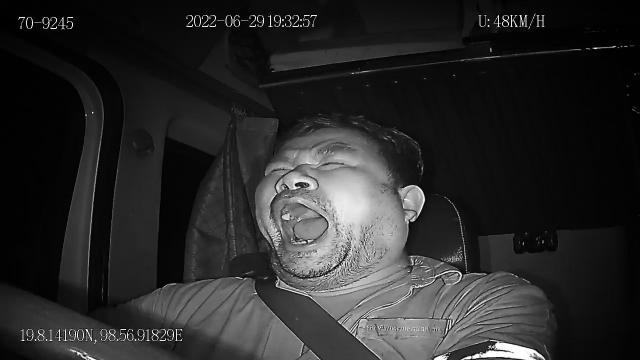Seatbelt: (253, 278, 383, 360)
